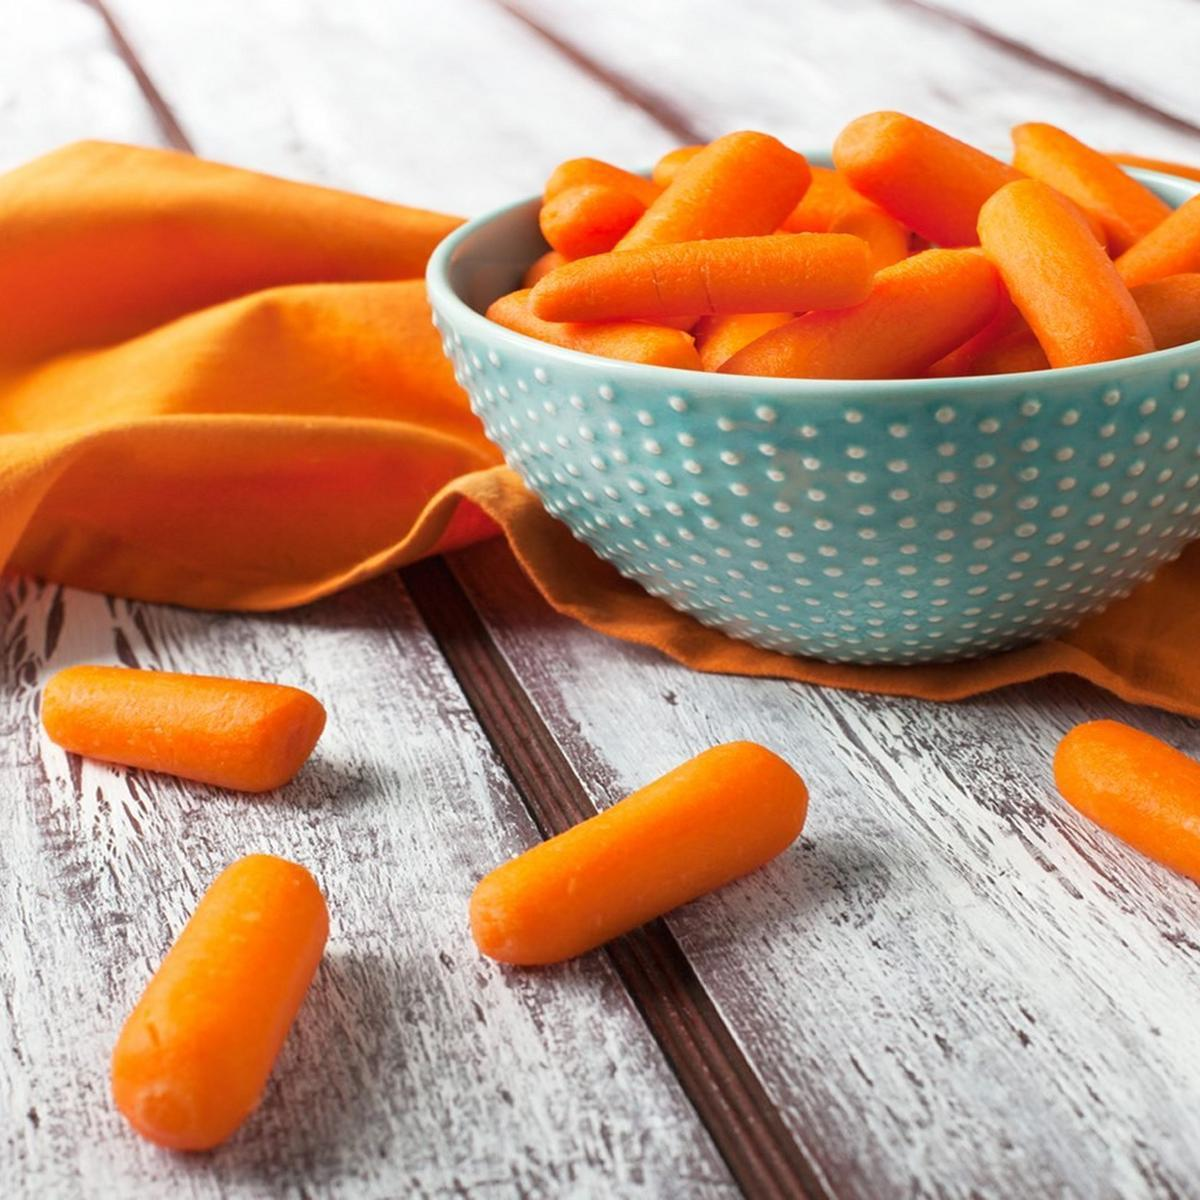carrot: (607, 173, 1156, 362), (462, 720, 842, 973), (125, 846, 362, 1173), (27, 652, 418, 818), (1037, 708, 1200, 905)
